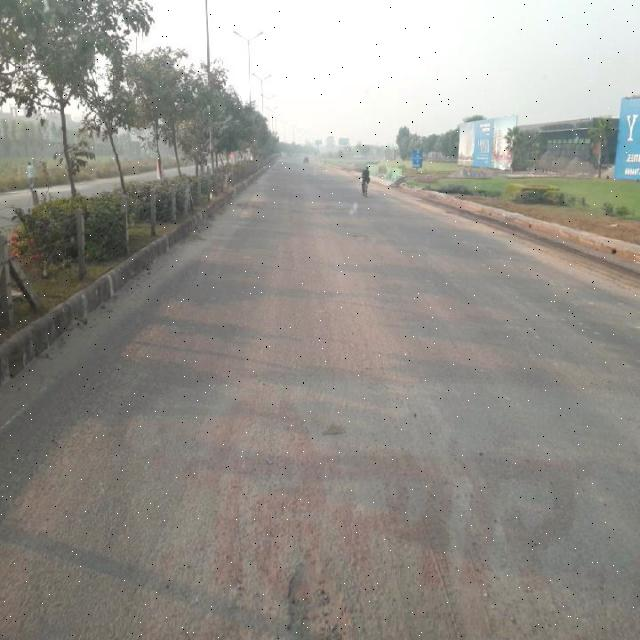D20: (24, 332, 552, 618)
D40: (275, 527, 365, 637)
